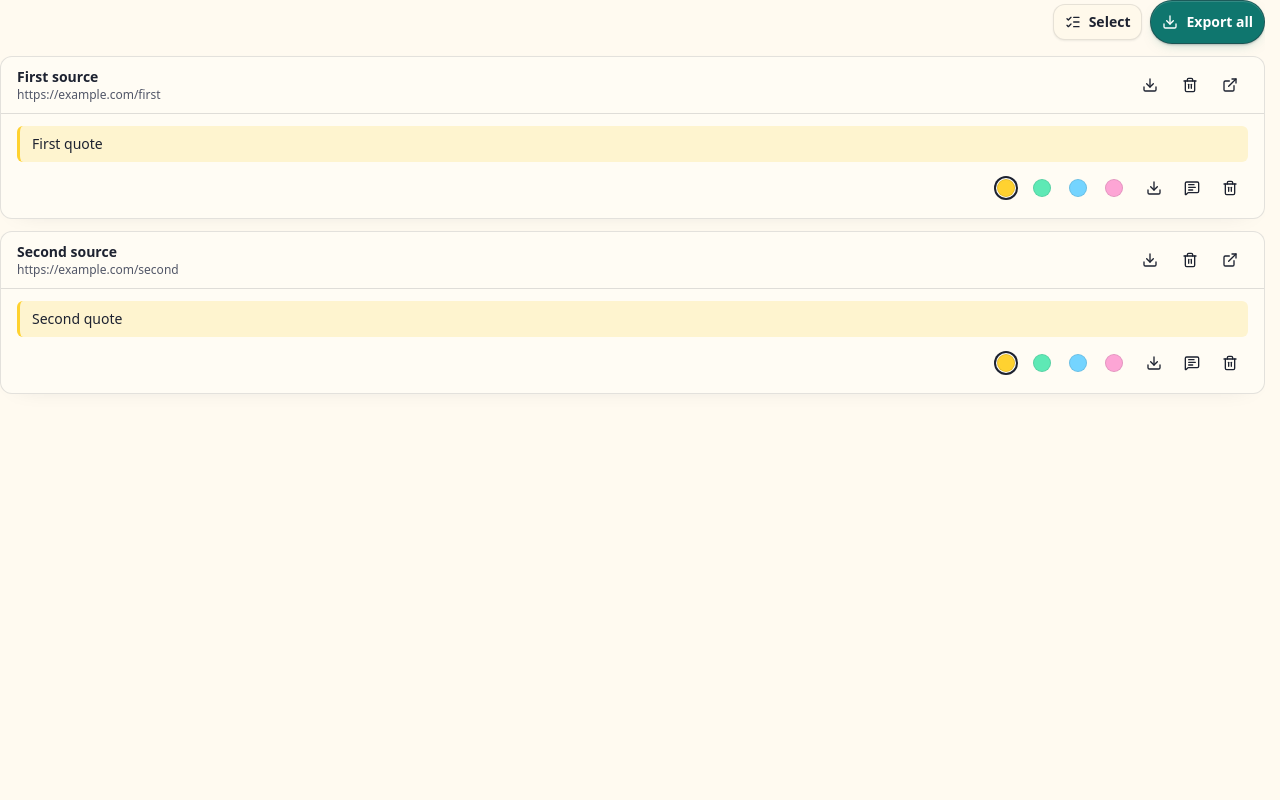
Test: ReadspaceHighlights › keeps only failed highlights selected after a partial bulk deletion
The image size is (1280, 800).
What coordinates should you click on to do the following:
click the button "Select"
I would click on:
 (1098, 22)
Its box is [1053,4,1142,40].
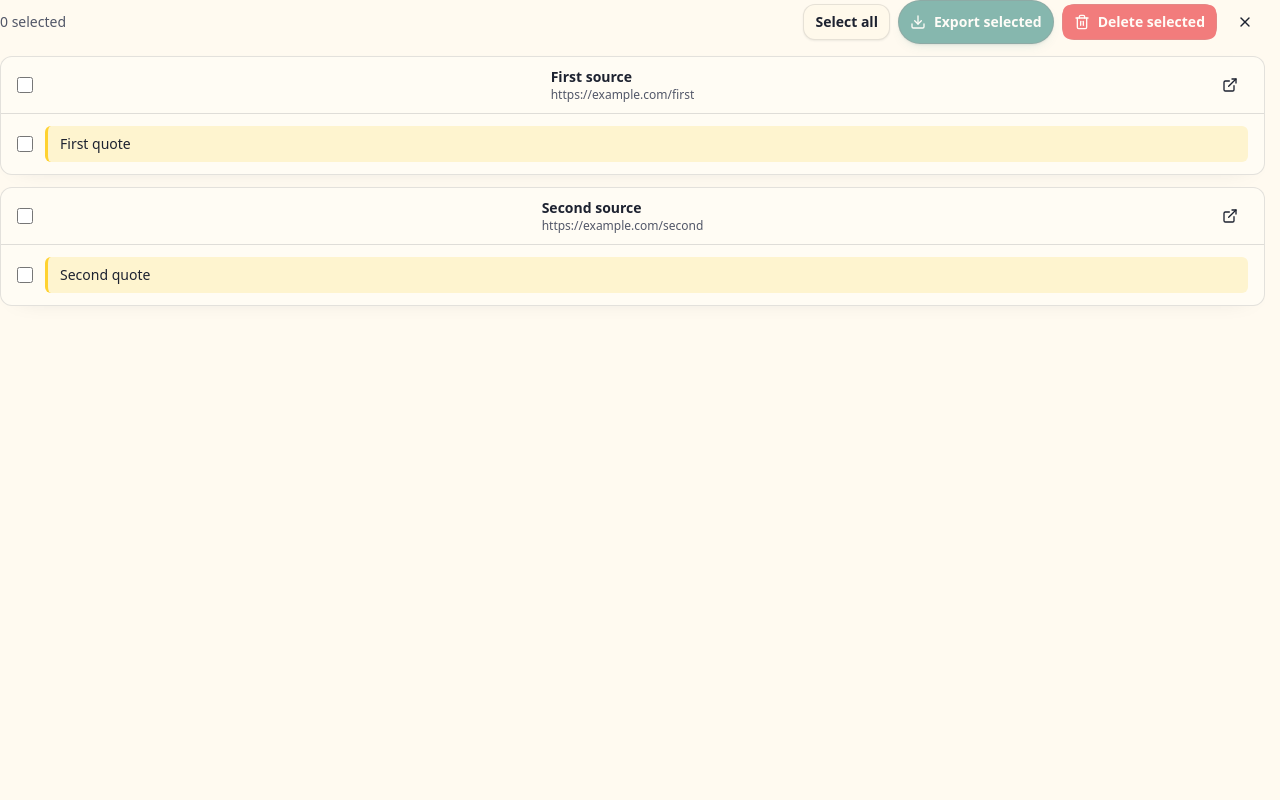
What coordinates should you click on to do the following:
click the button "Select all"
I would click on:
 (847, 22)
Its box is [804,4,890,40].
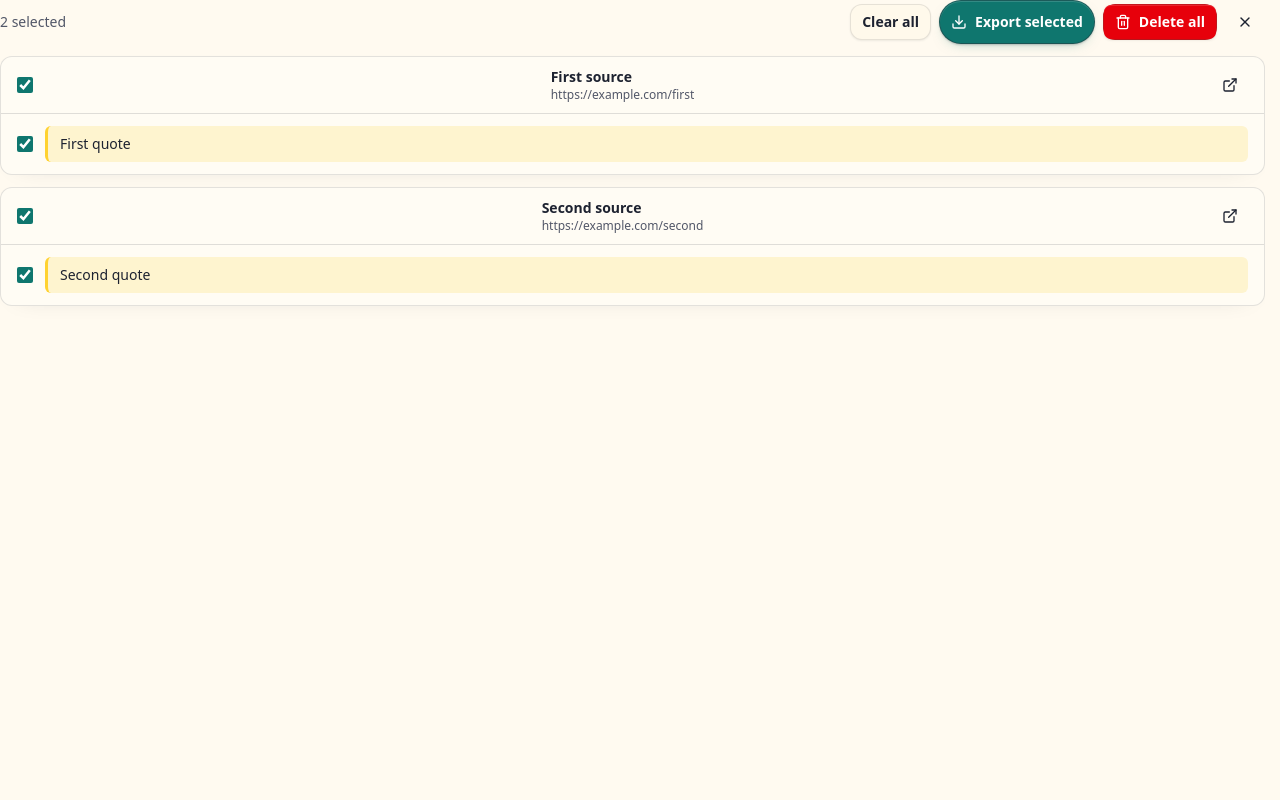
What coordinates should you click on to do the following:
click the button "Delete all"
I would click on:
 (1160, 22)
Its box is [1103,4,1217,40].
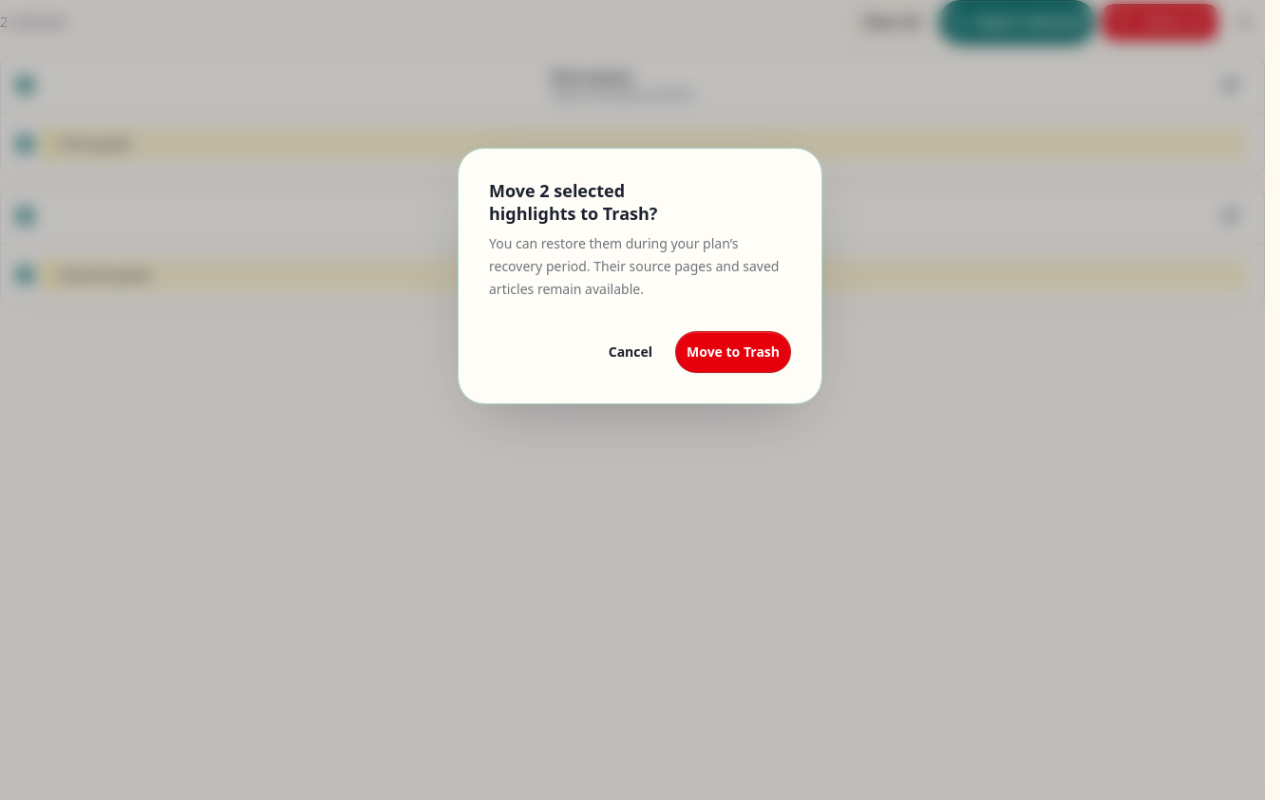
What coordinates should you click on to do the following:
click the button "Move to Trash"
I would click on:
 (733, 352)
Its box is [675,331,791,372].
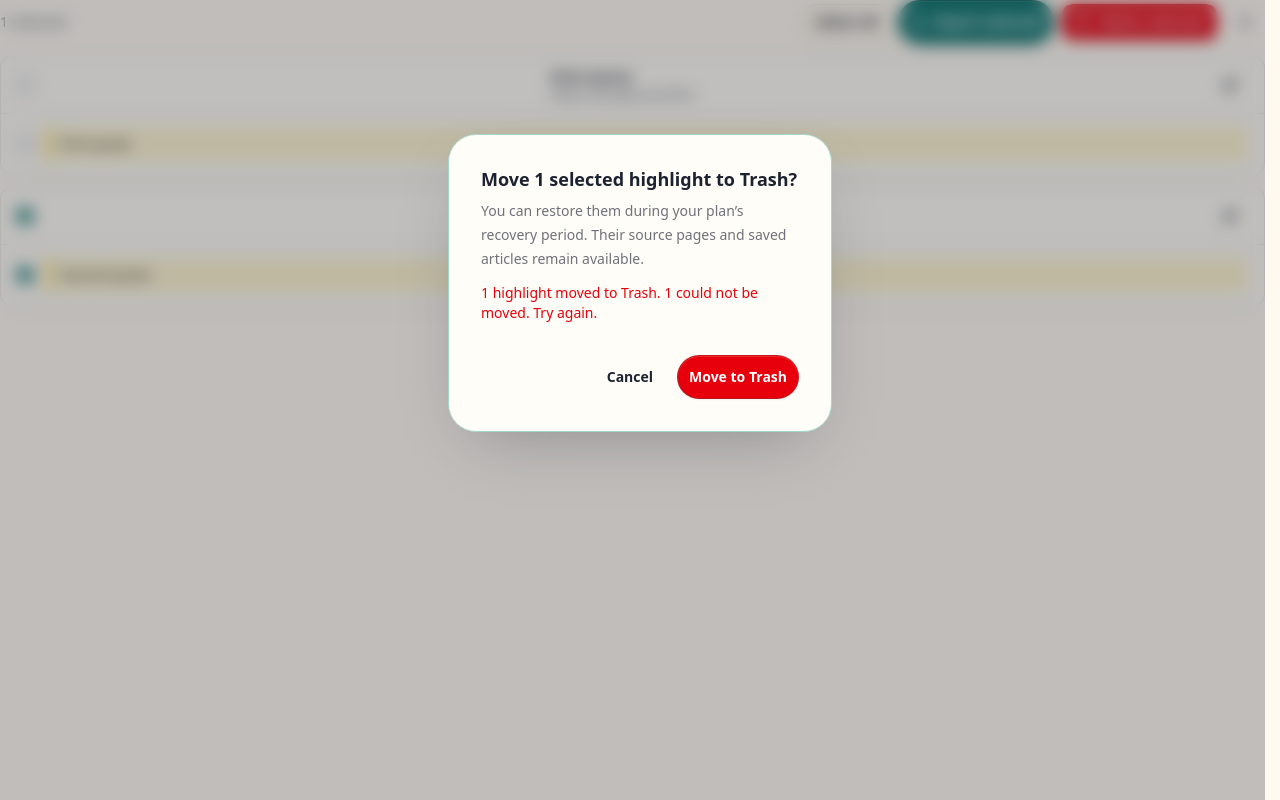
Expected: the text "1 highlight moved to Trash. 1 could not be moved. Try again." is shown, [481,282,799,322]
Expected: the text "Move 1 selected highlight to Trash?" is shown, [481,166,799,190]
Expected: the text "1 selected" is shown, [0,12,66,32]
